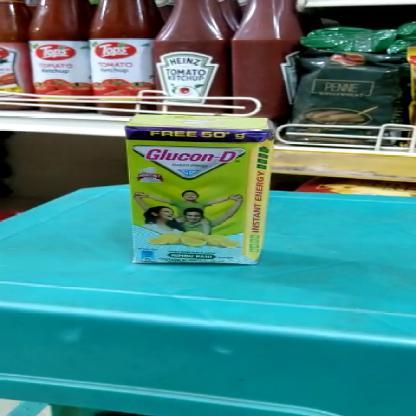Glucon D Nimbu Pani 1-KG: (126, 127, 266, 264)
